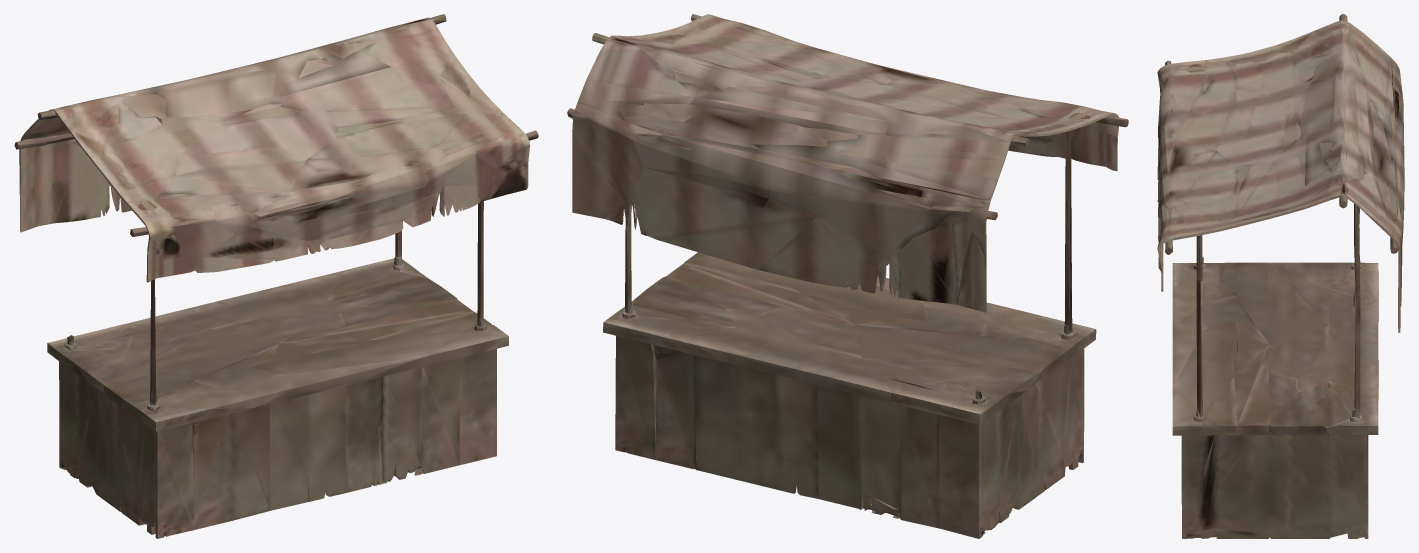
Rendered from market_stall.glb.
The picture shows the model from 3 angles, left to right: view 1: azimuth 30°, elevation 25°; view 2: azimuth 150°, elevation 25°; view 3: azimuth 270°, elevation 25°; orthographic projection. The views are drawn at different scales.
Parts seen in each view (by area): view 1: Mesh_0; view 2: Mesh_0; view 3: Mesh_0.
Boxes of the visible parts, x1,y1,x2,y2 form: Mesh_0: (14,14,538,538); Mesh_0: (567,14,1128,538); Mesh_0: (1157,14,1404,538).
Bounding box in the file's own units: 1.9 × 1.67 × 1.06.
Materials: 1 (1 with a texture image).
